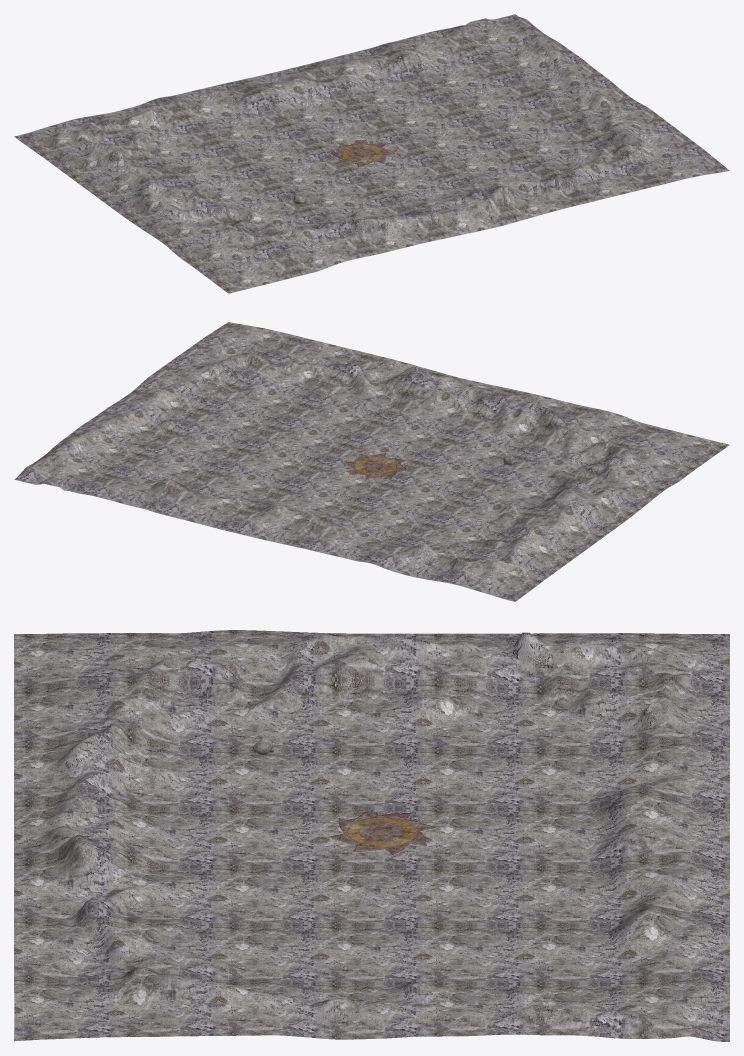
File: env_ninja_environment.glb
The picture shows the model from 3 angles, top to bottom: view 1: azimuth 30°, elevation 25°; view 2: azimuth 150°, elevation 25°; view 3: azimuth 270°, elevation 25°; orthographic projection. The views are drawn at different scales.
Visible parts, largest first — view 1: Ground; view 2: Ground; view 3: Ground.
Part boxes in pixels (x1,y1,x2,y2): Ground: (14, 14, 729, 293); Ground: (14, 322, 729, 601); Ground: (14, 630, 729, 1041).
Bounding box in the file's own units: 154 × 6.3 × 114.
Materials: 3 (3 with a texture image).
